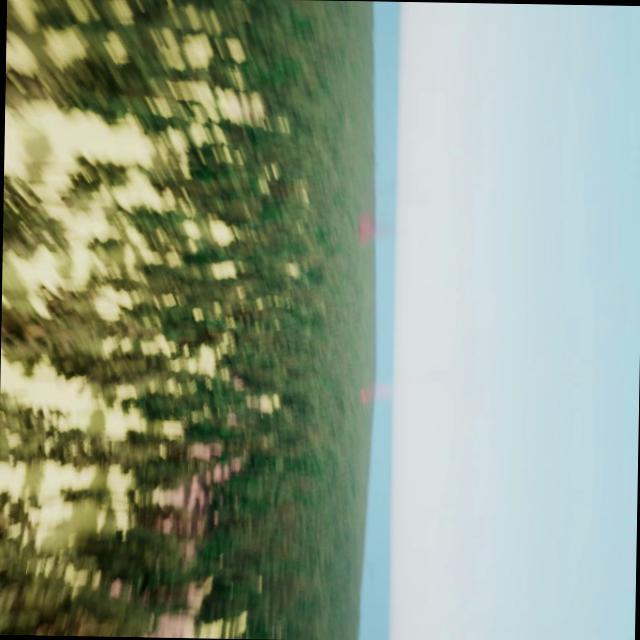smoke: (360, 210, 392, 248), (360, 382, 405, 402)
